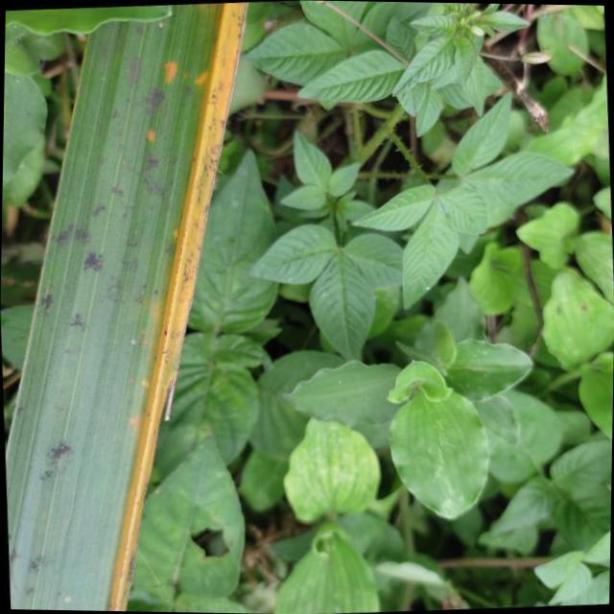Megnesium: (8, 0, 245, 608)
